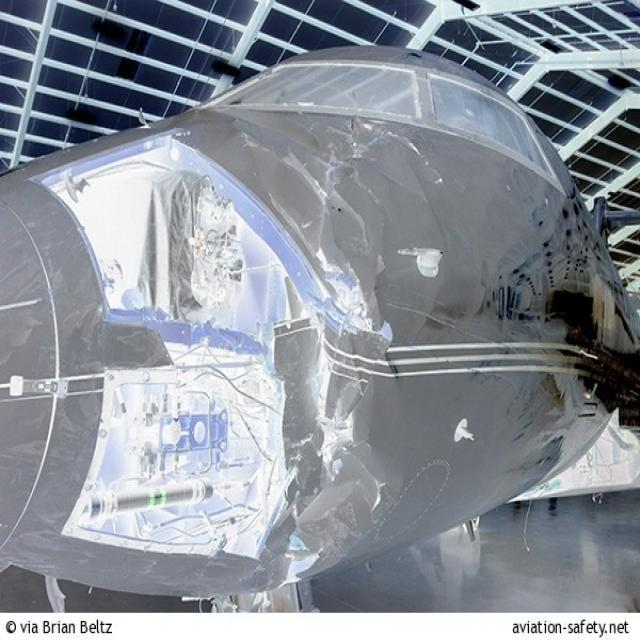crack: (361, 121, 452, 193), (347, 451, 395, 522)
